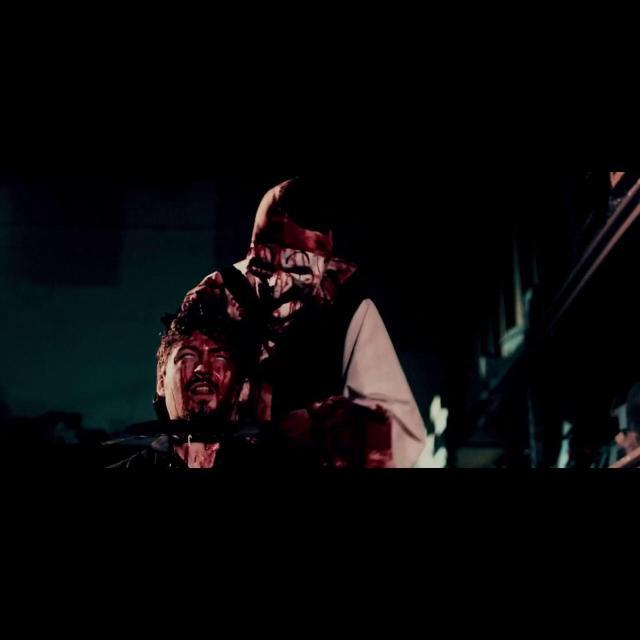blood: (162, 184, 400, 470)
